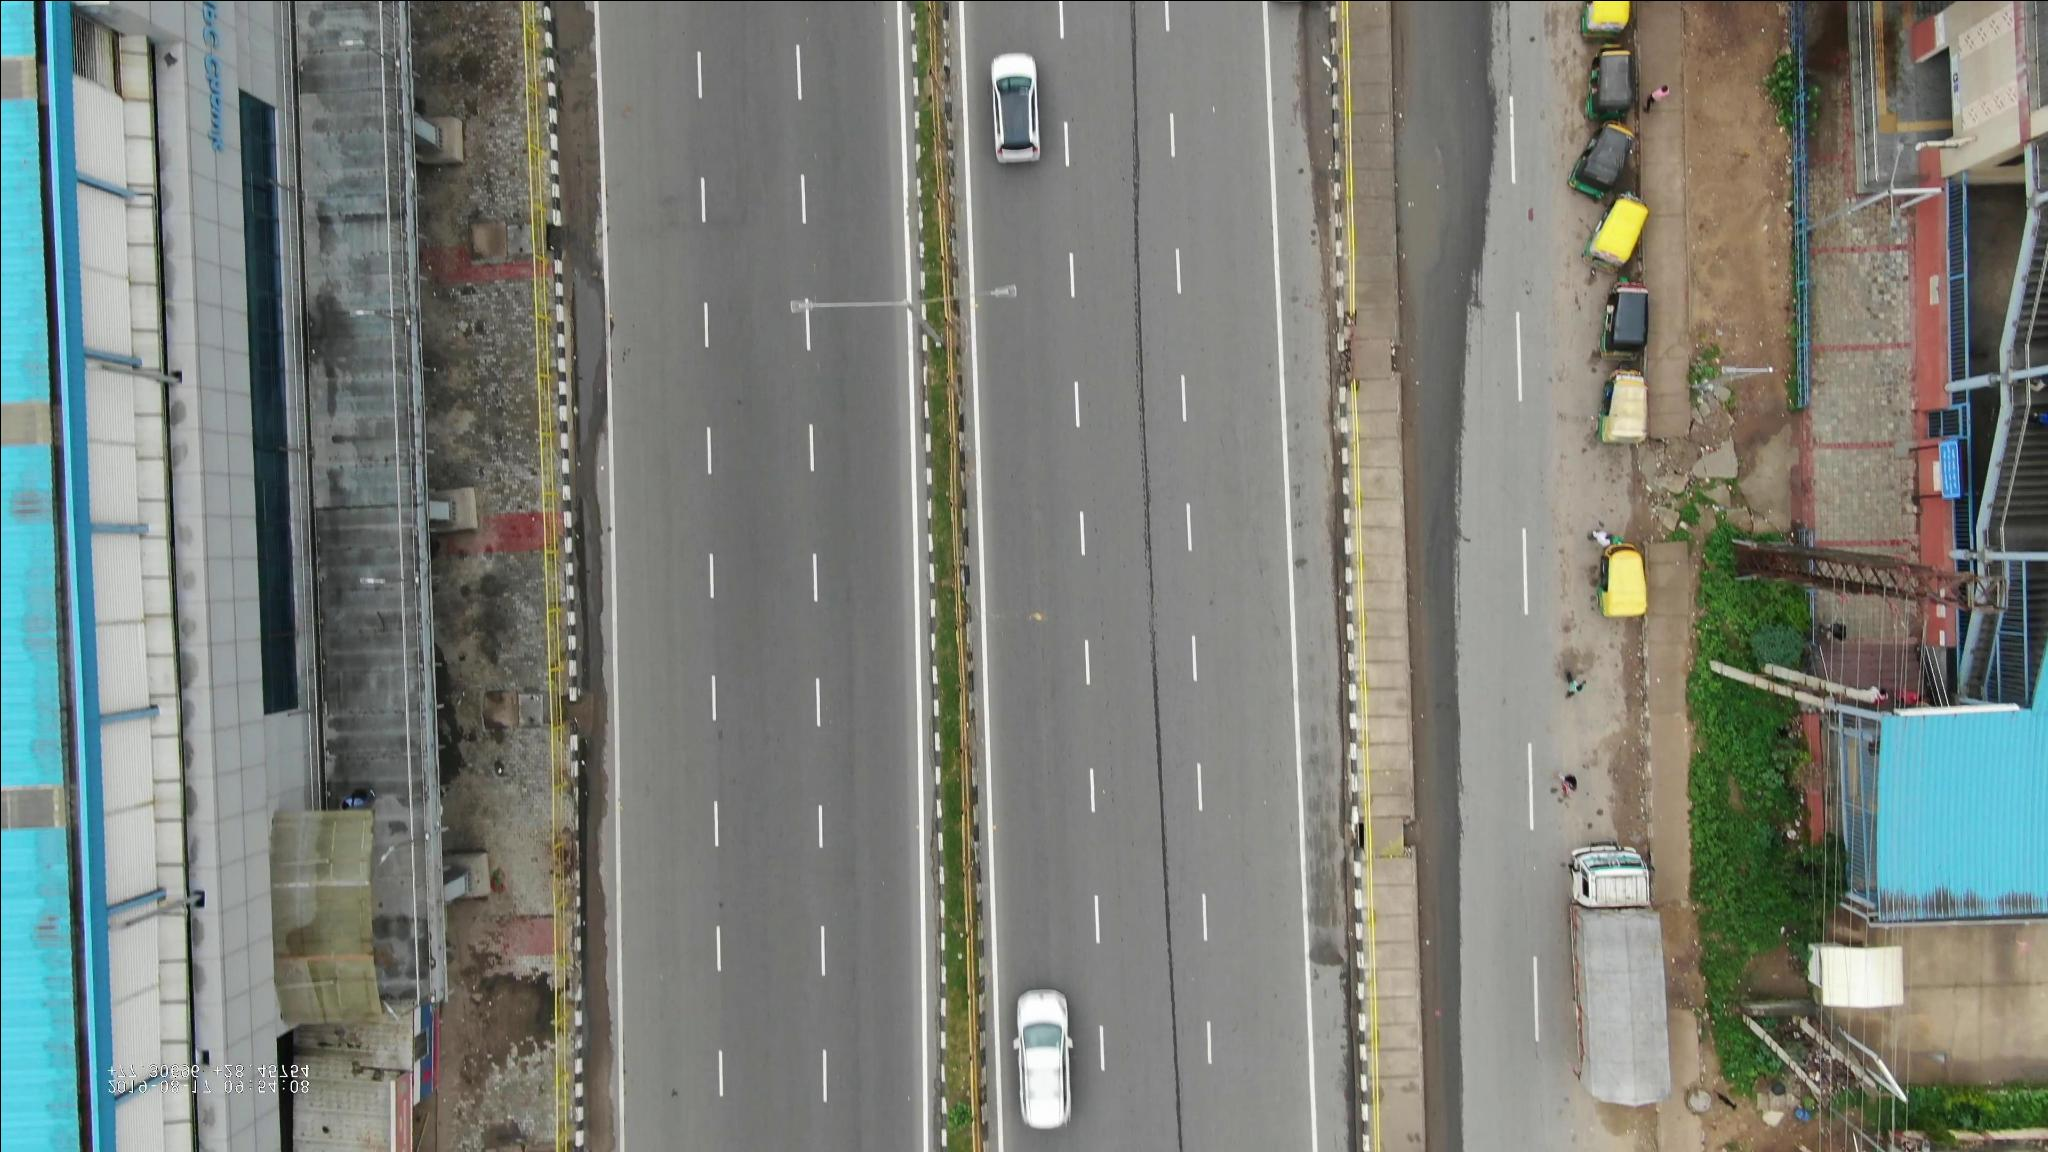Muddy_road: (1594, 632, 1656, 833)
